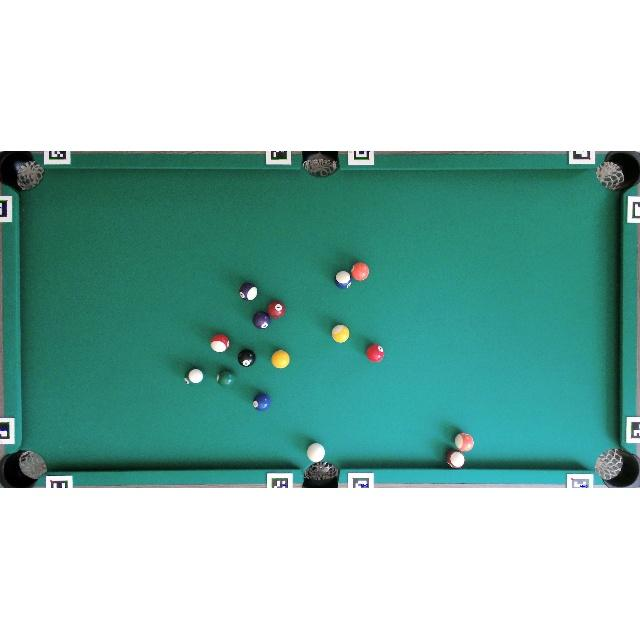cue ball: (307, 443, 325, 462)
other: (252, 392, 272, 412), (455, 432, 474, 452), (210, 334, 230, 352), (446, 450, 466, 468), (184, 368, 204, 386), (271, 350, 290, 368), (351, 262, 370, 280), (238, 349, 256, 367), (268, 300, 286, 318), (239, 282, 257, 300), (366, 344, 384, 362), (332, 324, 349, 343), (335, 271, 352, 289), (253, 312, 270, 329), (217, 370, 235, 386)
